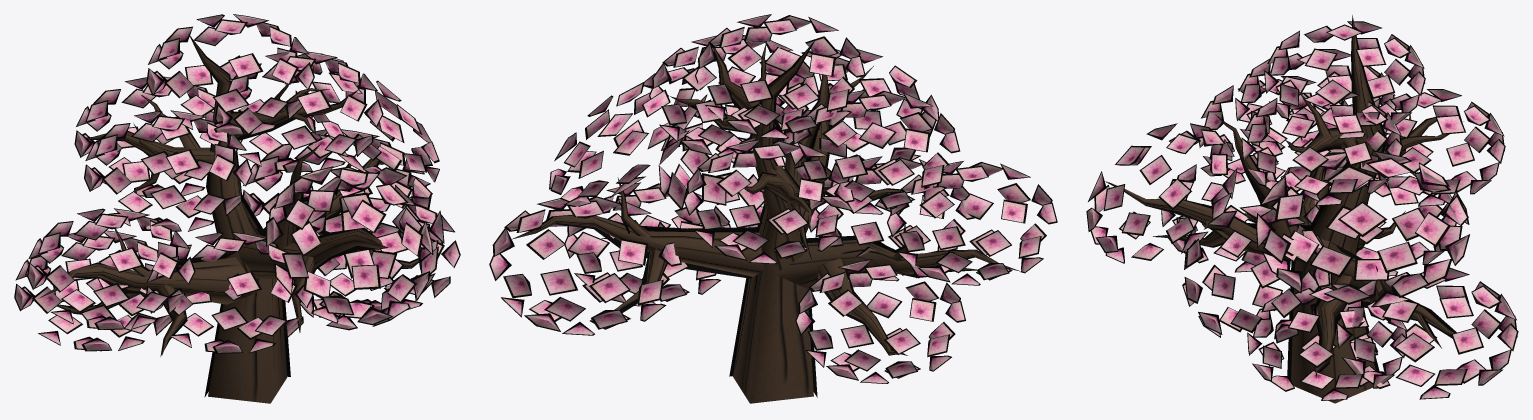
The model's file is treeModel.fbx.
3 renders of one model, left to right at view 1: azimuth 30°, elevation 25°; view 2: azimuth 150°, elevation 25°; view 3: azimuth 270°, elevation 25°, orthographic. The views are drawn at different scales.
Visible parts, largest first — view 1: tree, pPyramid19 (×8), pPyramid22 (×7), tree1, pPyramid16 (×6), pPyramid32 (×6), pPyramid18 (×5), pPyramid21 (×5), pPyramid30 (×3), pPyramid13, pPyramid15, pPyramid41 (+4 smaller); view 2: tree, tree1, pPyramid17 (×7), pPyramid34 (×6), pPyramid15 (×6), pPyramid37 (×6), pPyramid23 (×5), pPyramid35 (×2), pPyramid27; view 3: tree, pPyramid24 (×8), pPyramid14 (×7), pPyramid25 (×7), pPyramid26 (×7), tree1, pPyramid41 (×5), pPyramid37 (×3), pPyramid13 (×2), pPyramid36 (×2), pPyramid20 (×2), pPyramid31 (+12 smaller).
Boxes of the visible parts, x1,y1,x2,y2 form: tree: (43, 37, 418, 403); pPyramid19 (×8): (93, 88, 397, 330); pPyramid22 (×7): (109, 53, 408, 296); tree1: (38, 34, 418, 397); pPyramid16 (×6): (32, 71, 308, 313); pPyramid32 (×6): (61, 95, 321, 336); pPyramid18 (×5): (152, 58, 416, 303); pPyramid21 (×5): (136, 97, 357, 336); pPyramid30 (×3): (122, 65, 335, 212); pPyramid13: (351, 199, 386, 232); pPyramid15: (284, 198, 314, 229); pPyramid41: (303, 271, 331, 297); tree: (515, 42, 1016, 403); tree1: (512, 40, 1020, 397); pPyramid17 (×7): (540, 79, 965, 348); pPyramid34 (×6): (589, 83, 1011, 354); pPyramid15 (×6): (618, 52, 1027, 321); pPyramid37 (×6): (526, 44, 954, 316); pPyramid23 (×5): (567, 47, 993, 318); pPyramid35 (×2): (544, 173, 726, 321); pPyramid27: (503, 273, 531, 298); tree: (1106, 21, 1454, 403); pPyramid24 (×8): (1121, 79, 1434, 367); pPyramid14 (×7): (1103, 48, 1418, 332); pPyramid25 (×7): (1139, 47, 1473, 318); pPyramid26 (×7): (1158, 74, 1483, 354); tree1: (1104, 15, 1463, 379); pPyramid41 (×5): (1252, 175, 1435, 389); pPyramid37 (×3): (1166, 133, 1501, 308); pPyramid13 (×2): (1220, 201, 1387, 257); pPyramid36 (×2): (1166, 216, 1467, 385); pPyramid20 (×2): (1276, 268, 1375, 363); pPyramid31: (1353, 259, 1389, 280).
Bounding box in the file's own units: 2145 × 1622 × 1826.
